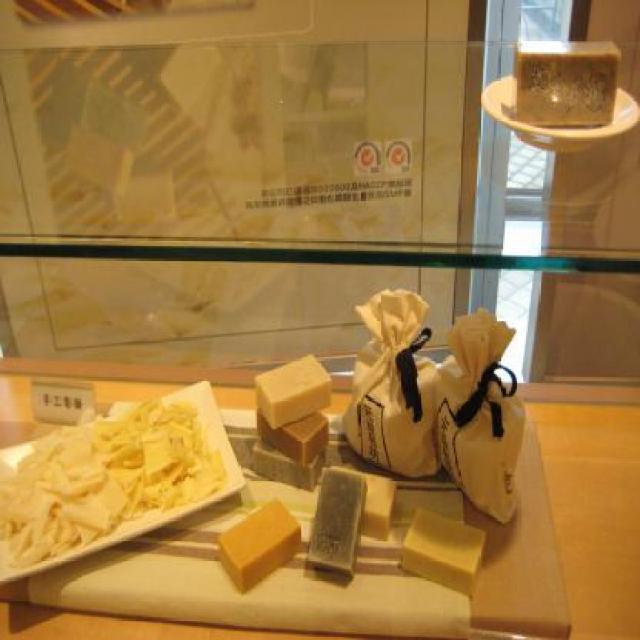Cheese: (0, 398, 231, 568), (514, 38, 618, 124), (400, 501, 489, 597), (218, 496, 302, 595), (304, 465, 370, 578), (255, 352, 333, 428), (328, 464, 398, 542), (249, 434, 325, 491), (256, 409, 330, 466)
